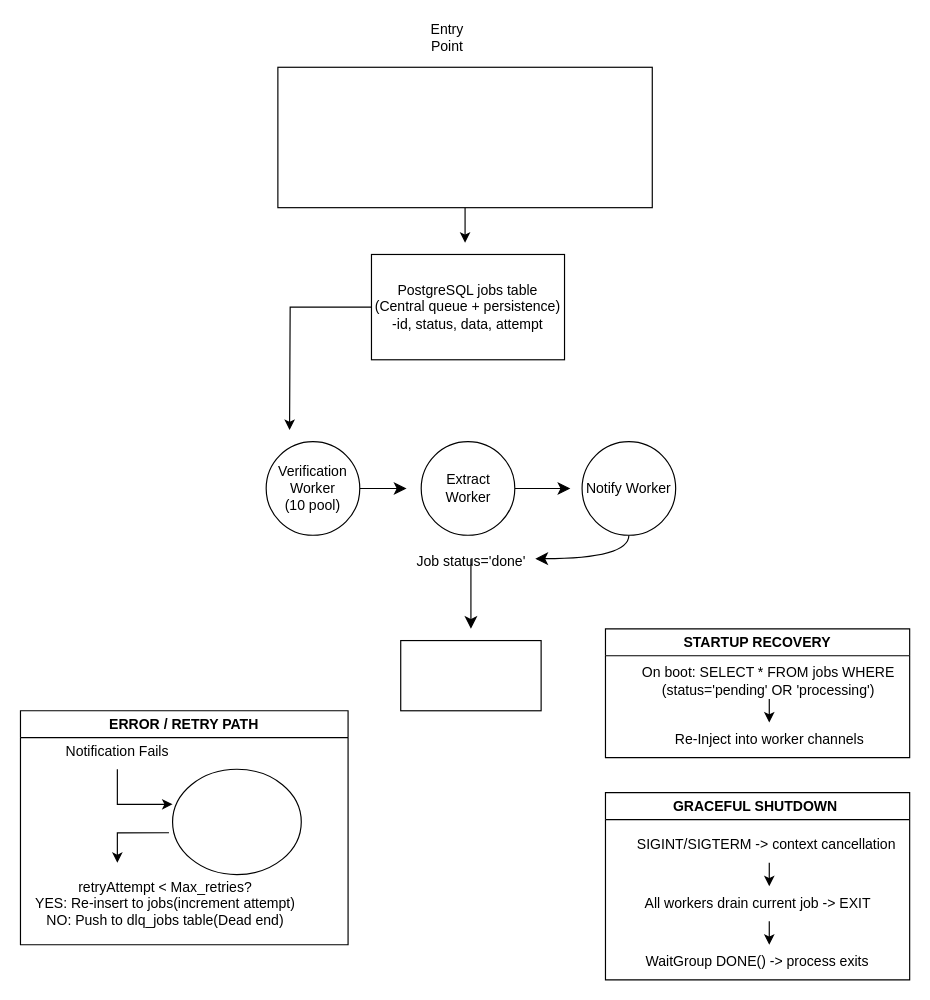
This 930x1000 diagram has some shape labels left out. Here are the shapes that lost their labels. From the top down, the centre of each, then its label:
At [464,137]: "HTTP POST /report -> Ratelimiter (per-IP) | Insert JOB (status=pending)".
At [470,675]: "Notification Success".
At [236,821]: "Retry Worker + 2 ^ attempt backoff".
